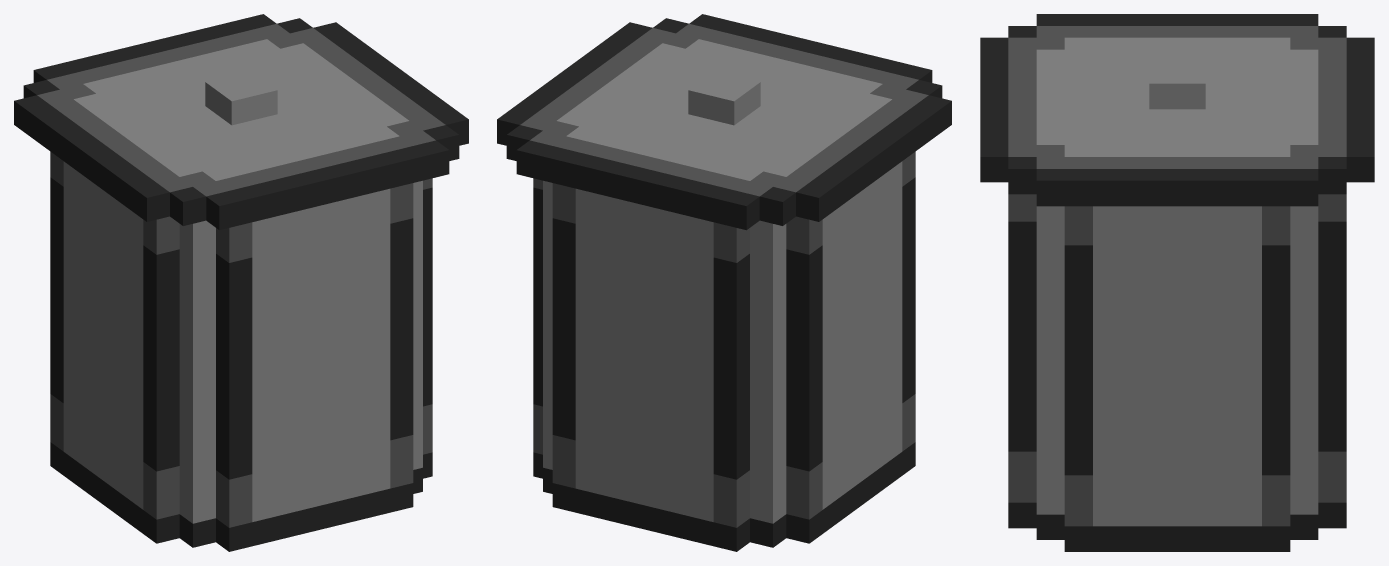
The model's file is trashcan.fbx.
3 views of the same model, side by side, from view 1: azimuth 30°, elevation 25°; view 2: azimuth 150°, elevation 25°; view 3: azimuth 270°, elevation 25° (orthographic). The views are drawn at different scales.
Visible parts, largest first — view 1: trashcan-1, trashcan-0; view 2: trashcan-1, trashcan-0; view 3: trashcan-1, trashcan-0.
Part boxes in pixels (x1,y1,x2,y2): trashcan-1: (50,151,432,551); trashcan-0: (14,14,468,230); trashcan-1: (533,151,915,551); trashcan-0: (497,14,951,230); trashcan-1: (1008,194,1346,551); trashcan-0: (980,14,1374,206).
Size of the model in its own units: 140 by 160 by 140.
